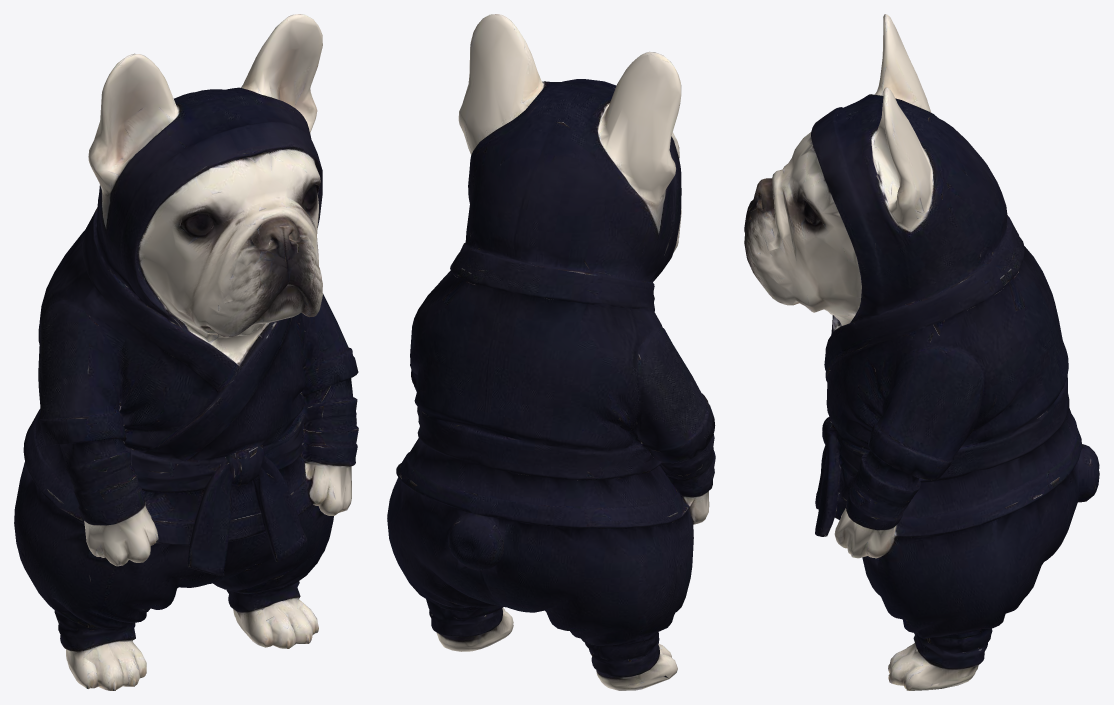
The model's file is costume-ninja_dog-frenchie-white.glb.
3 renders of one model, left to right at view 1: azimuth 30°, elevation 25°; view 2: azimuth 150°, elevation 25°; view 3: azimuth 270°, elevation 25°, orthographic. The views are drawn at different scales.
Parts seen in each view (by area): view 1: Mesh_0; view 2: Mesh_0; view 3: Mesh_0.
Part boxes in pixels (x1,y1,x2,y2): Mesh_0: (14,14,358,690); Mesh_0: (387,14,715,690); Mesh_0: (744,14,1099,690).
Size of the model in its own units: 0.9444 by 1.9 by 1.04.
1 material, 1 textured.
